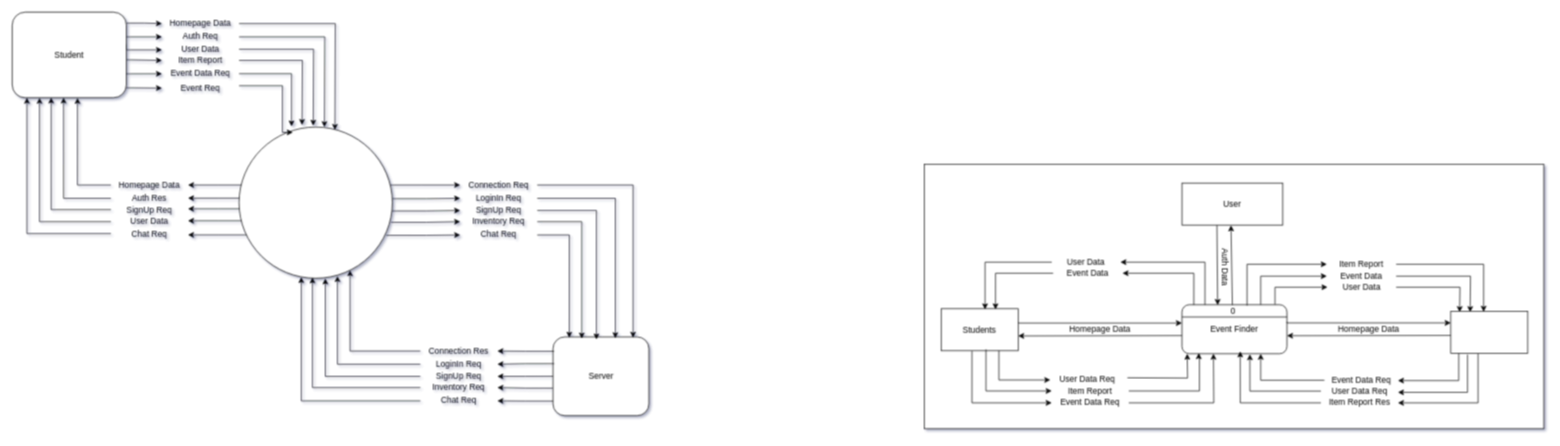
The diagram is 1560 pixels wide and 446 high, and some of its shapes have lost their labels. The centre of each missing label's shape, as x and y in pixels:
"admin" goes at (1489,332).
"Multiplayer Dungeon Quest" goes at (315,202).
